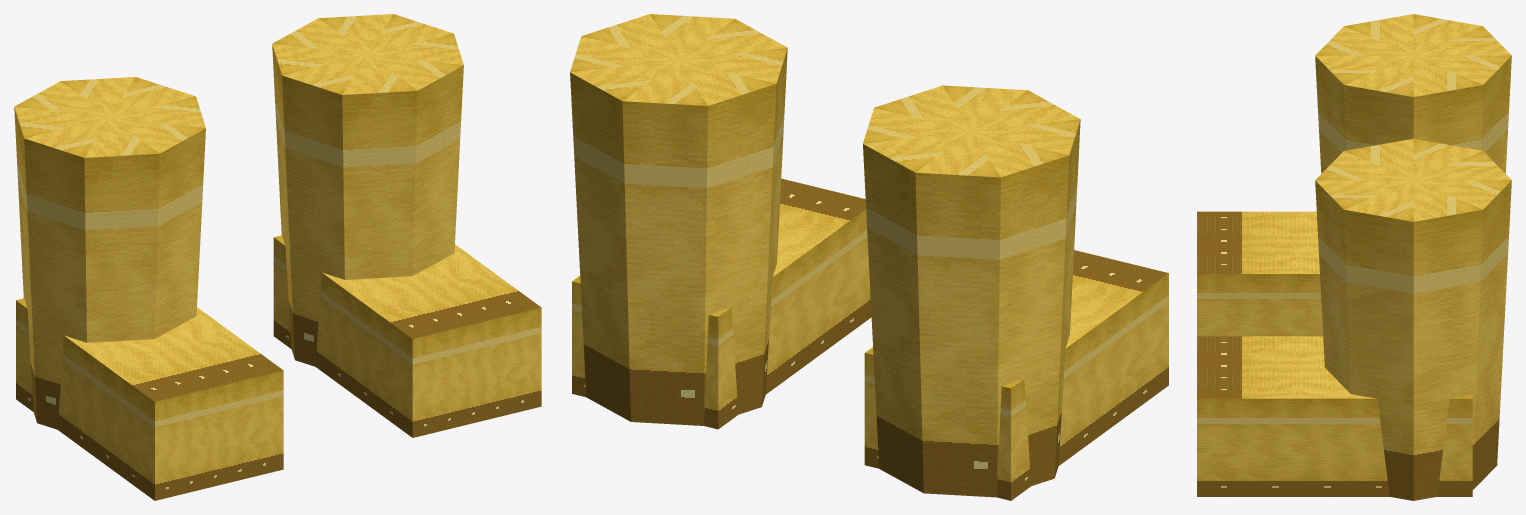
Rendered from botas_de_ouro.glb.
3 renders of one model, left to right at view 1: azimuth 30°, elevation 25°; view 2: azimuth 150°, elevation 25°; view 3: azimuth 270°, elevation 25°, orthographic. The views are drawn at different scales.
Parts seen in each view (by area): view 1: botas_de_ouro; view 2: botas_de_ouro; view 3: botas_de_ouro.
Part boxes in pixels (bbox=[...]): botas_de_ouro: bbox=[14, 14, 541, 500]; botas_de_ouro: bbox=[570, 14, 1168, 500]; botas_de_ouro: bbox=[1197, 14, 1511, 500].
Size of the model in its own units: 0.5 by 0.32 by 0.32.
Materials: 1 (1 with a texture image).
